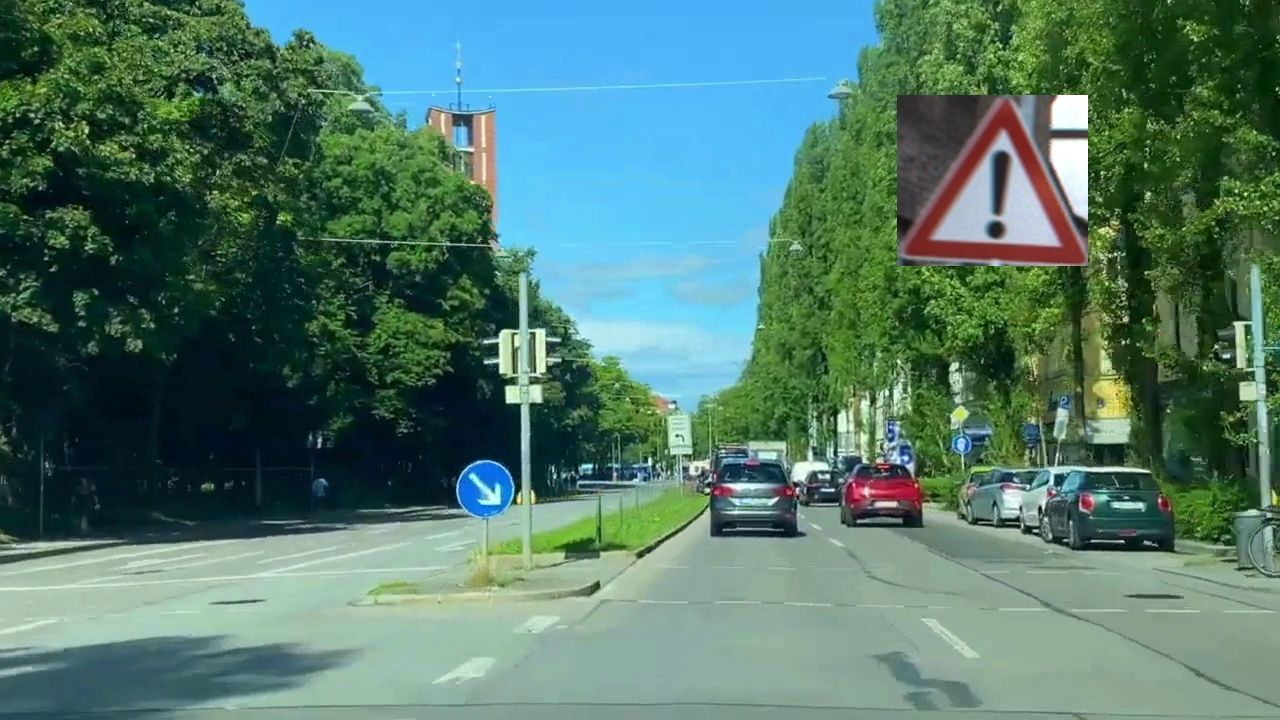Caution: (897, 95, 1088, 266)
